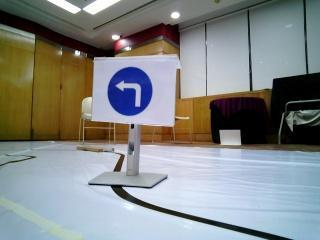left: (97, 58, 174, 123)
